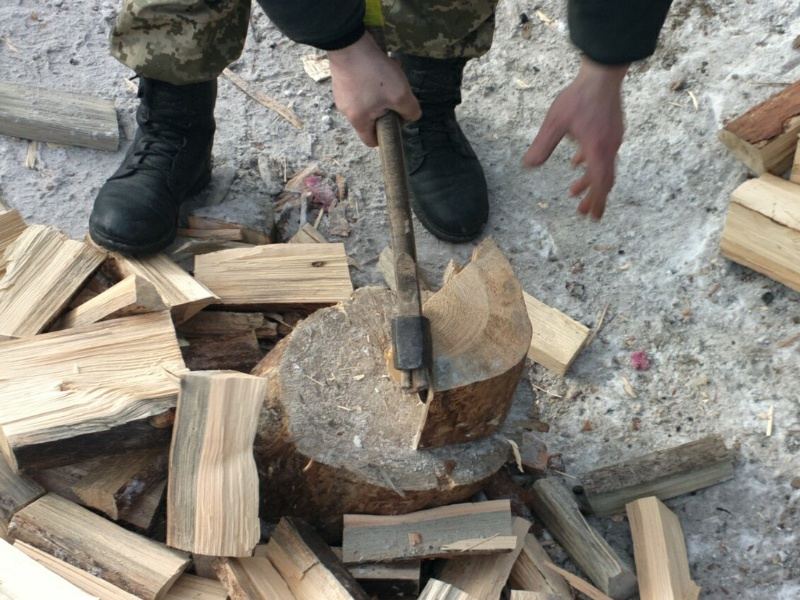axe: (367, 116, 442, 404)
